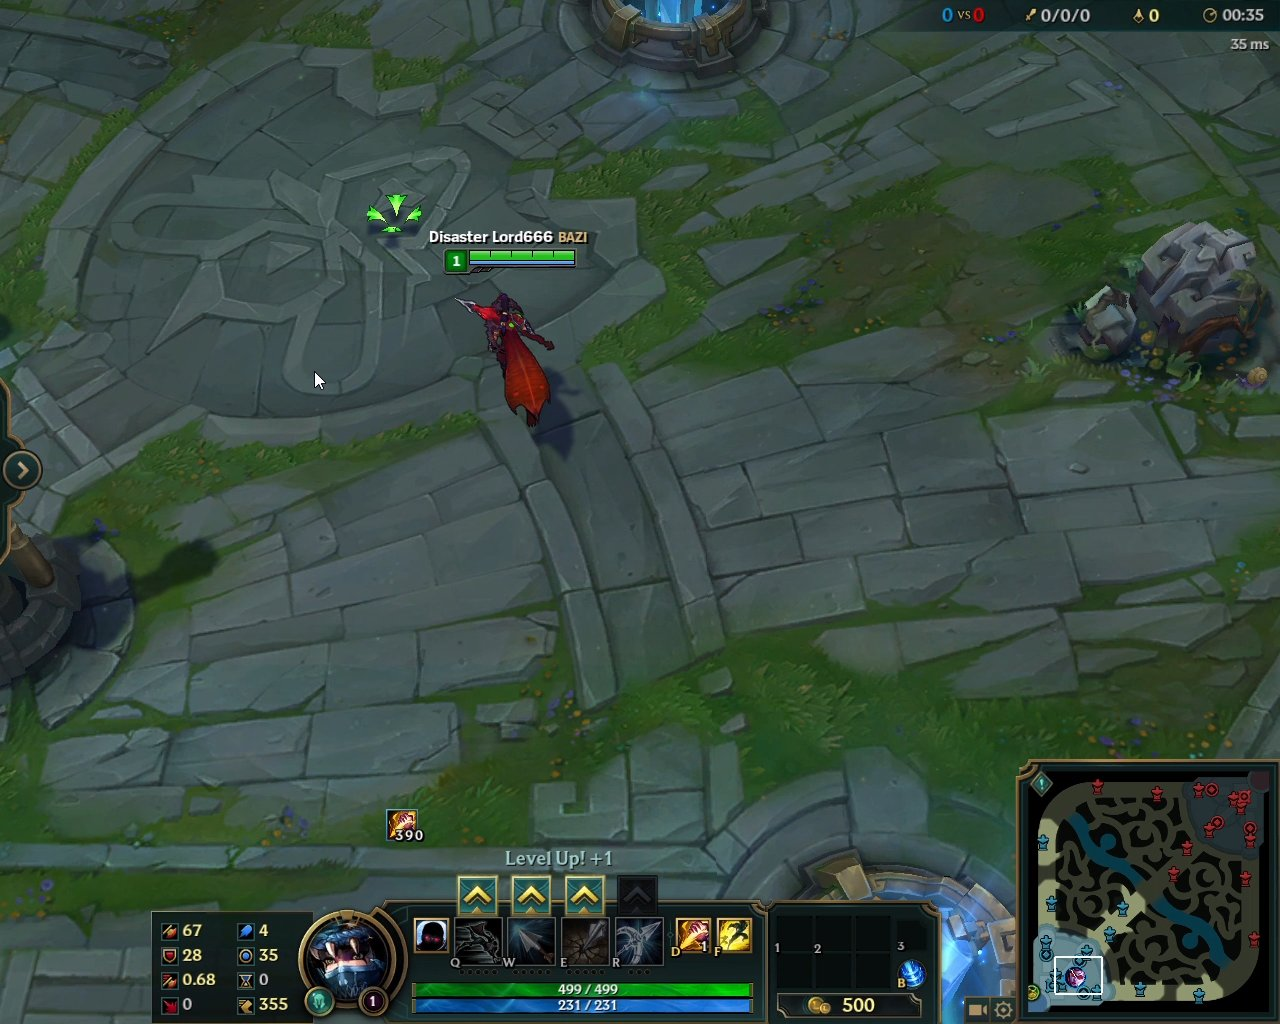Vayne: (462, 287, 565, 429)
